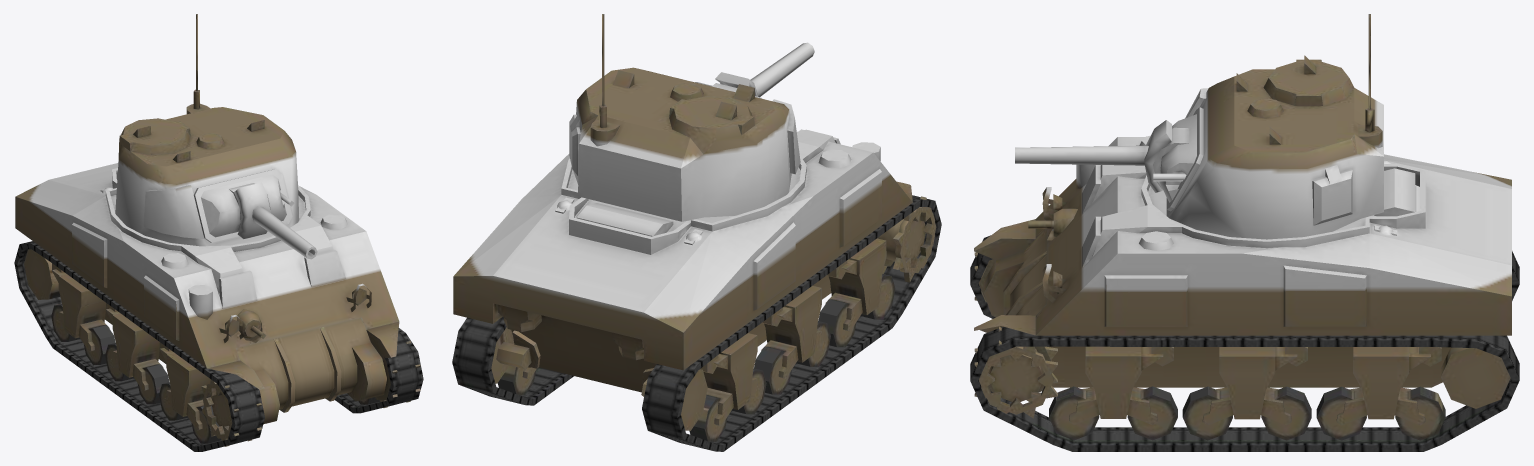
File: tank.glb
3 renders of one model, left to right at view 1: azimuth 30°, elevation 25°; view 2: azimuth 150°, elevation 25°; view 3: azimuth 270°, elevation 25°, orthographic. The views are drawn at different scales.
Parts seen in each view (by area): view 1: tank; view 2: tank; view 3: tank.
Part boxes in pixels (x1,y1,x2,y2): tank: (14,14,423,451); tank: (452,14,941,451); tank: (970,14,1519,451).
Bounding box in the file's own units: 3.05 × 4.72 × 5.9.
2 materials, 2 textured.
